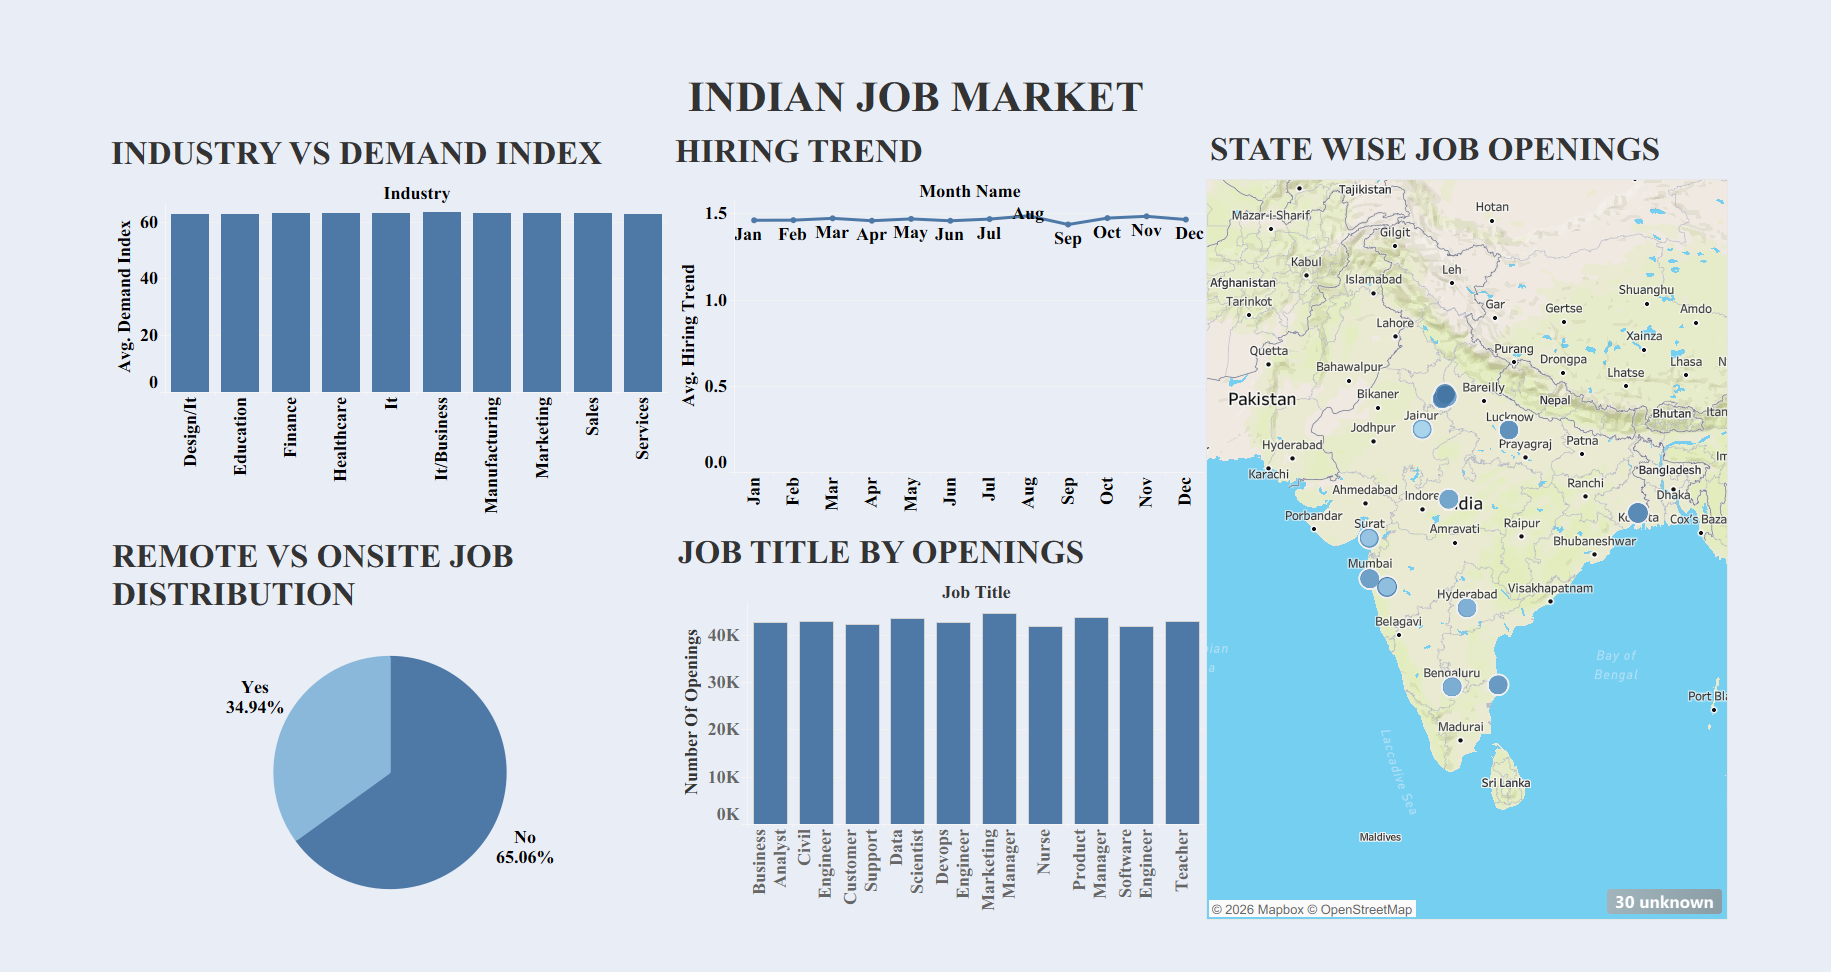

The dashboard page shown, as its layout file describes it:
{"tool":"tableau","page":{"name":"INDIAN JOB MARKET","canvas":[1000,1000],"units":"permille","ordinal":0},"visuals":[{"type":"title","box":[4.9,9.3,990.1,65.1]},{"type":"worksheet","title":"State wise Job Openings","mark":"Automatic","box":[679,76.7,322.2,922.1]},{"type":"worksheet","title":"Hiring Trend","mark":"Line","rows":["hiring_trend_encoded"],"cols":["month_name"],"box":[348.8,79.1,329.6,468.6]},{"type":"worksheet","title":"Industry Vs Demand index","mark":"Bar","rows":["demand_index"],"cols":["industry"],"box":[0.6,81.4,346.3,466.3]},{"type":"worksheet","title":"Job Titles by Openings","mark":"Automatic","rows":["number_of_openings"],"cols":["job_title"],"box":[350.6,545.4,327.8,454.7]},{"type":"worksheet","title":"Remote Vs Onsite job distribution","mark":"Pie","box":[1.2,550,348.2,450]}]}

Visuals, with their boxes on the dashboard's canvas, which has no fixed pixel size, in thousandths of its width and height (x1, y1, x2, y2). These are canvas units, not pixel positions in the 1831x972 screenshot, which may show the page scaled, cropped or inside an application window:
title: detection(5, 9, 995, 74)
"State wise Job Openings" worksheet: detection(679, 77, 1001, 999)
"Hiring Trend" worksheet (Line marks): detection(349, 79, 678, 548)
"Industry Vs Demand index" worksheet (Bar marks): detection(1, 81, 347, 548)
"Job Titles by Openings" worksheet: detection(351, 545, 678, 1000)
"Remote Vs Onsite job distribution" worksheet (Pie marks): detection(1, 550, 349, 1000)
